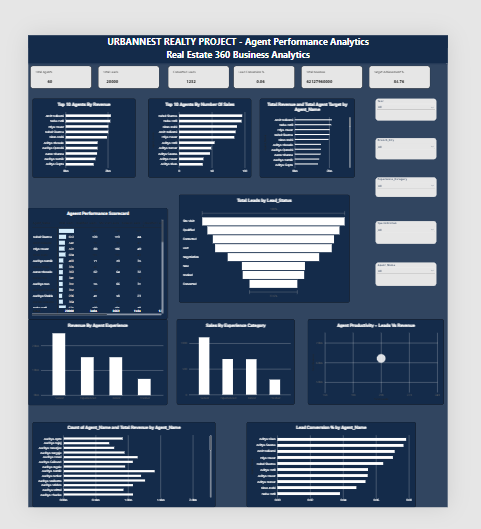

The dashboard page shown, as its layout file describes it:
{"tool":"powerbi","page":{"name":"05-Agent performance Analytics","canvas":[1920,2160],"ordinal":4},"visuals":[{"type":"textbox","title":"URBANNEST REALTY PROJECT - Agent Performance Analytics","box":[0,0,1920,130],"z":0},{"type":"tableEx","fields":{"Values":["Dim_Agent.Total Agents"]},"box":[8.3,140,279.2,102.6],"z":1000},{"type":"tableEx","fields":{"Values":["Fact_Leads.Total Leads"]},"box":[320,140,279.2,102.6],"z":2000},{"type":"tableEx","fields":{"Values":["Fact_Leads.Converted Leads"]},"box":[636.7,140,279.2,102.6],"z":3000},{"type":"tableEx","fields":{"Values":["Fact_Leads.Lead Conversion %"]},"box":[940,140,279.2,102.6],"z":4000},{"type":"tableEx","fields":{"Values":["Fact_Sales.Total Revenue"]},"box":[1248.3,140,279.2,102.6],"z":5000},{"type":"tableEx","fields":{"Values":["Dim_Agent.Target Achievement %"]},"box":[1563.3,140,279.2,102.6],"z":6000},{"type":"clusteredBarChart","title":"Top 10 Agents By Revenue","fields":{"Category":["Dim_Agent.Agent_Name"],"Y":["Fact_Sales.Total Revenue"]},"box":[17.1,285.4,470.7,361],"z":7000},{"type":"clusteredBarChart","title":"Top 10 Agents By Number Of Sales","fields":{"Category":["Dim_Agent.Agent_Name"],"Y":["Fact_Sales.Total Sales"]},"box":[546.3,285.4,470.7,361],"z":8000},{"type":"barChart","fields":{"Category":["Dim_Agent.Agent_Name"],"Y":["Fact_Leads.Lead Conversion %"]},"box":[997.6,1770.7,773.2,390.2],"z":9000},{"type":"pivotTable","title":"Ageent Performance Scorecard","fields":{"Rows":["Dim_Agent.Agent_Name"],"Values":["Fact_Leads.Total Leads","Fact_Leads.Qualified Leads","Fact_Leads.Site Visit Leads","Fact_Leads.Booked Leads","Fact_Leads.Converted Leads","Fact_Sales.Total Sales","Dim_Agent.Target Achievement %","Fact_Sales.Total Revenue"]},"box":[0,790,636.6,509.8],"z":10000},{"type":"funnel","fields":{"Category":["Fact_Leads.Lead_Status"],"Y":["Fact_Leads.Total Leads"]},"box":[690.2,731.7,780.5,492.7],"z":11000},{"type":"columnChart","title":"Revenue By Agent Experience","fields":{"Category":["Dim_Agent.Experience_Category "],"Y":["Fact_Sales.Total Revenue"]},"box":[0,1302.4,636.6,392.7],"z":12000},{"type":"columnChart","title":" Sales By Experience Category","fields":{"Category":["Dim_Agent.Experience_Category "],"Y":["Fact_Sales.Total Sales"]},"box":[678,1302.4,539,390.2],"z":13000},{"type":"barChart","fields":{"Category":["Dim_Agent.Agent_Name"],"Y":["Count(Dim_Agent.Agent_Name)","Fact_Sales.Total Revenue"]},"box":[17.1,1770.7,836.6,390.2],"z":14000},{"type":"scatterChart","title":"Agent Productivity - Leads Vs Revenue","fields":{"Size":["Fact_Sales.Total Sales"],"X":["Fact_Leads.Total Leads"],"Y":["Fact_Sales.Total Revenue"]},"box":[1275.6,1302.4,622,390.2],"z":15000},{"type":"clusteredBarChart","fields":{"Category":["Dim_Agent.Agent_Name"],"Y":["Fact_Sales.Total Revenue","Dim_Agent.Total Agent Target"]},"box":[1056.1,285.4,434.1,361],"z":16000},{"type":"slicer","fields":{"Values":["Dim_Date.Year"]},"box":[1585.4,285.4,278,100],"z":17000},{"type":"slicer","fields":{"Values":["Dim_Agent.Branch_City"]},"box":[1587.8,465.9,278,97.6],"z":18000},{"type":"slicer","fields":{"Values":["Dim_Agent.Experience_Category "]},"box":[1585.4,646.3,278.3,90],"z":19000},{"type":"slicer","fields":{"Values":["Dim_Agent.Specialization"]},"box":[1585.4,851.2,278,104.9],"z":20000},{"type":"slicer","fields":{"Values":["Dim_Agent.Agent_Name"]},"box":[1590,1043.3,278,107.3],"z":21000}]}

Visuals, with their boxes in screenshot pixels (x1, y1, x2, y2), scaled from the page's 1920x2160 canvas onto the 481x529 screenshot:
"URBANNEST REALTY PROJECT - Agent Performance Analytics" textbox: detection(0, 0, 480, 32)
tableEx - Dim_Agent.Total Agents: detection(2, 34, 72, 59)
tableEx - Fact_Leads.Total Leads: detection(80, 34, 150, 59)
tableEx - Fact_Leads.Converted Leads: detection(160, 34, 229, 59)
tableEx - Fact_Leads.Lead Conversion %: detection(235, 34, 305, 59)
tableEx - Fact_Sales.Total Revenue: detection(313, 34, 383, 59)
tableEx - Dim_Agent.Target Achievement %: detection(392, 34, 462, 59)
"Top 10 Agents By Revenue" clusteredBarChart: detection(4, 70, 122, 158)
"Top 10 Agents By Number Of Sales" clusteredBarChart: detection(137, 70, 255, 158)
barChart - Dim_Agent.Agent_Name x Fact_Leads.Lead Conversion %: detection(250, 434, 444, 528)
"Ageent Performance Scorecard" pivotTable: detection(0, 193, 159, 318)
funnel - Fact_Leads.Lead_Status x Fact_Leads.Total Leads: detection(173, 179, 368, 300)
"Revenue By Agent Experience" columnChart: detection(0, 319, 159, 415)
" Sales By Experience Category" columnChart: detection(170, 319, 305, 415)
barChart - Dim_Agent.Agent_Name x Count(Dim_Agent.Agent_Name): detection(4, 434, 214, 528)
"Agent Productivity - Leads Vs Revenue" scatterChart: detection(320, 319, 475, 415)
clusteredBarChart - Dim_Agent.Agent_Name x Fact_Sales.Total Revenue: detection(265, 70, 373, 158)
slicer - Dim_Date.Year: detection(397, 70, 467, 94)
slicer - Dim_Agent.Branch_City: detection(398, 114, 467, 138)
slicer - Dim_Agent.Experience_Category : detection(397, 158, 467, 180)
slicer - Dim_Agent.Specialization: detection(397, 208, 467, 234)
slicer - Dim_Agent.Agent_Name: detection(398, 256, 468, 282)
